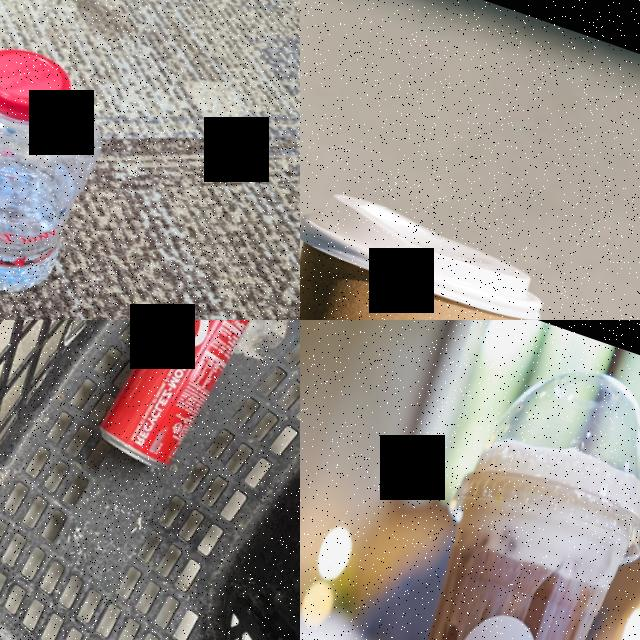bottle: (0, 24, 130, 319)
can: (89, 320, 272, 483)
cup: (322, 333, 640, 640), (300, 174, 562, 320)
